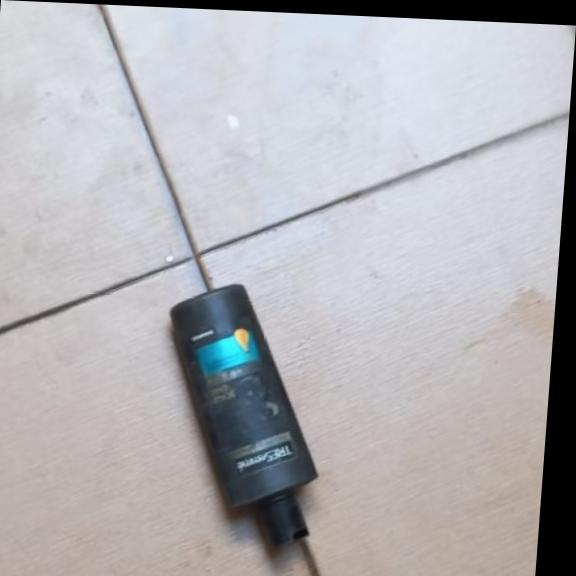Plastik: (152, 282, 357, 546)
